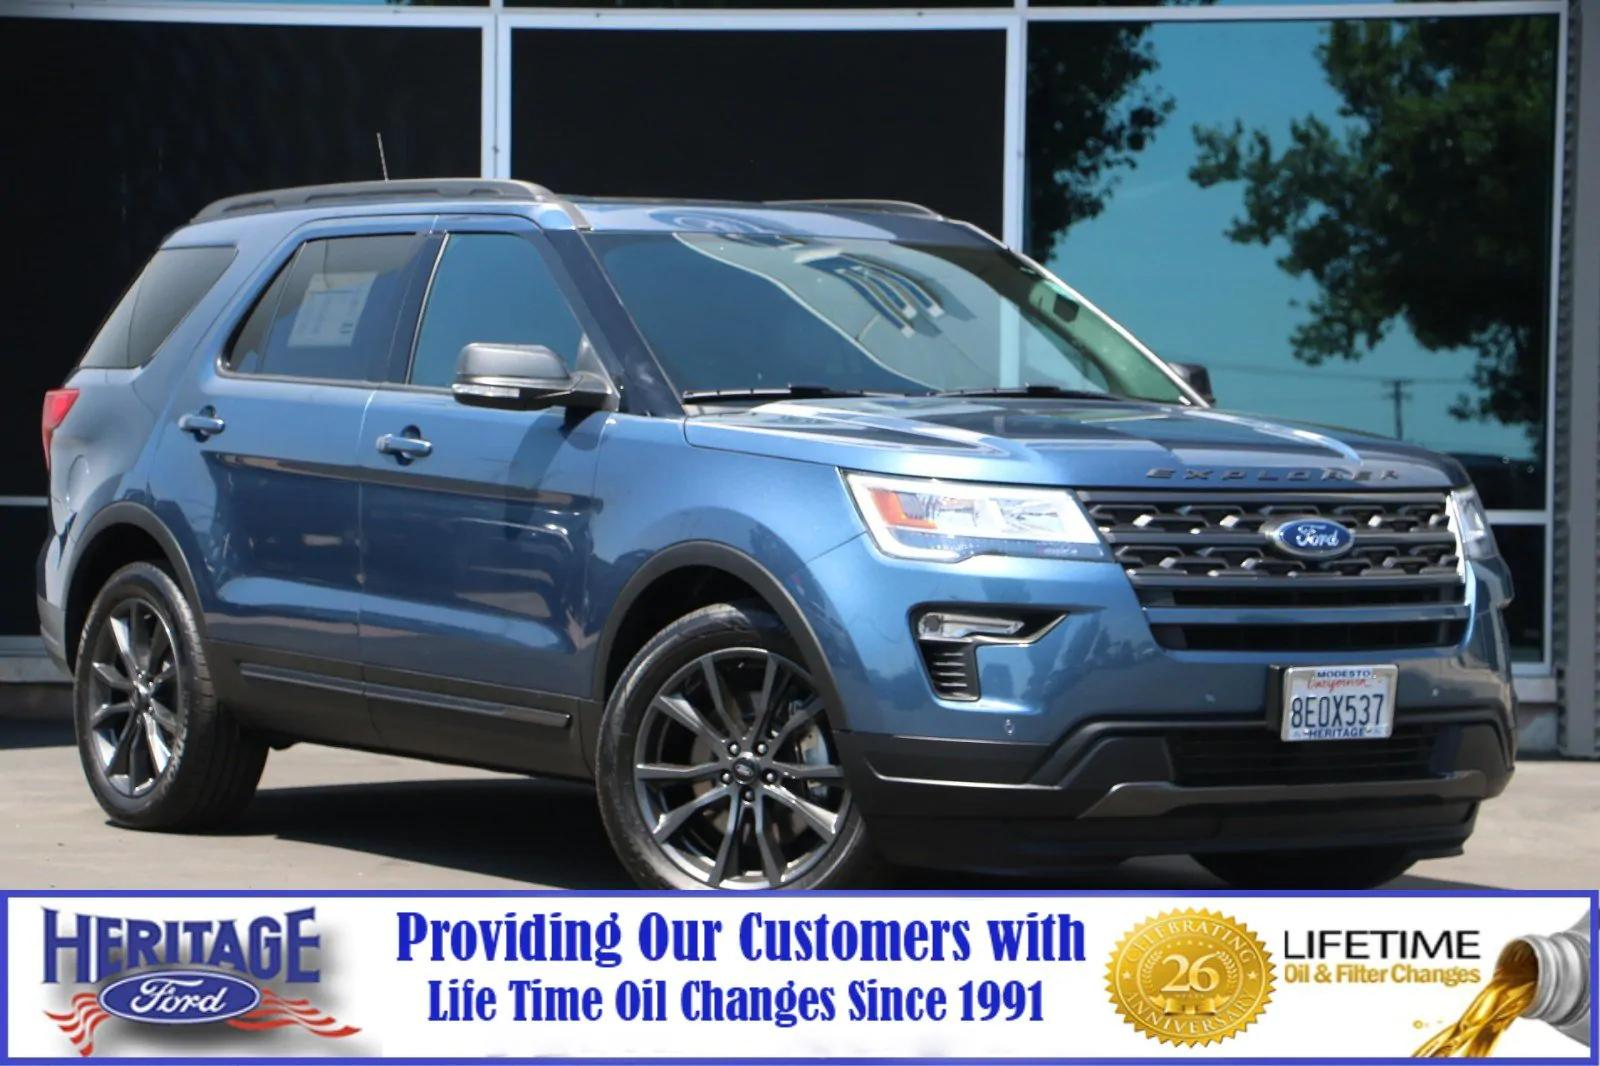Ford Explorer: (33, 169, 1518, 911)
